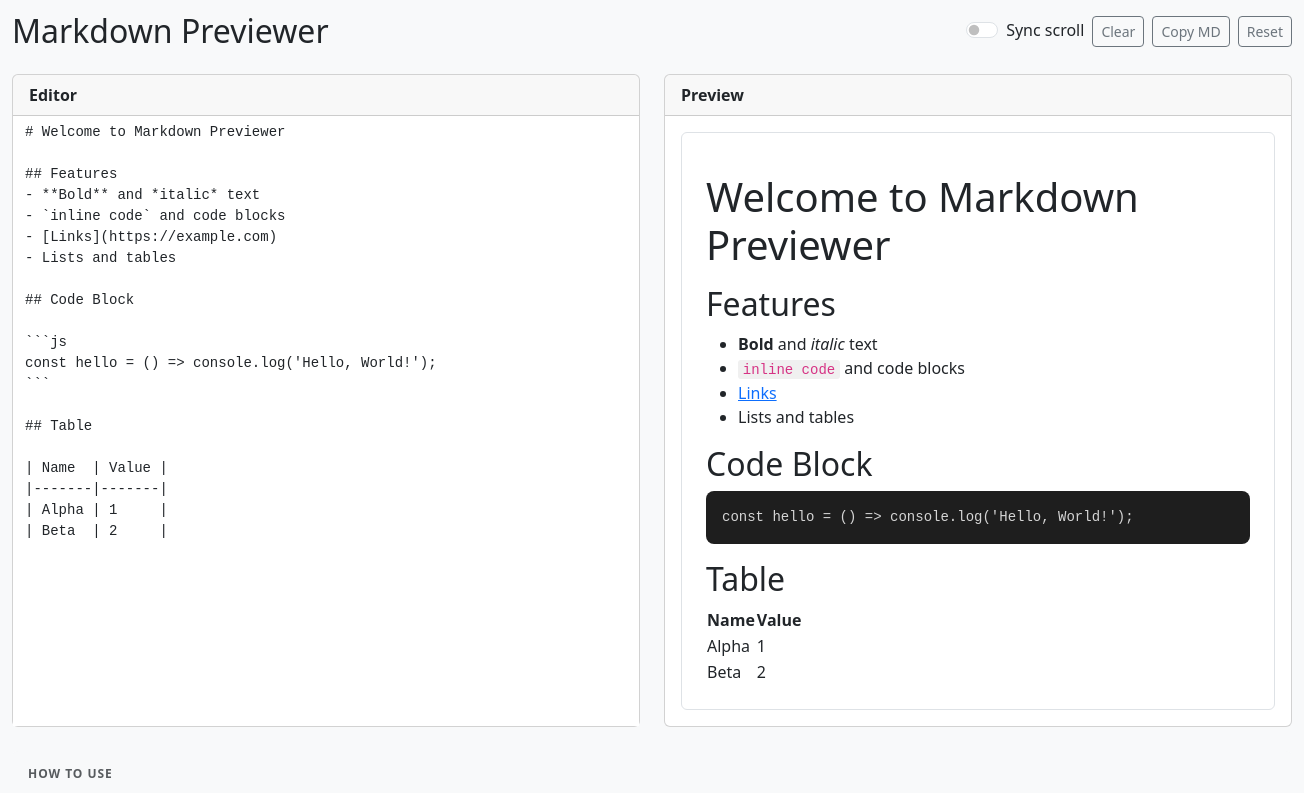
MarkdownPreviewer › updates preview when editor content changes
This screenshot has width=1304, height=793.
Replace the text in the text box named "Markdown editor" with "# Test Heading" at point(326, 421), box [13,116,639,726]
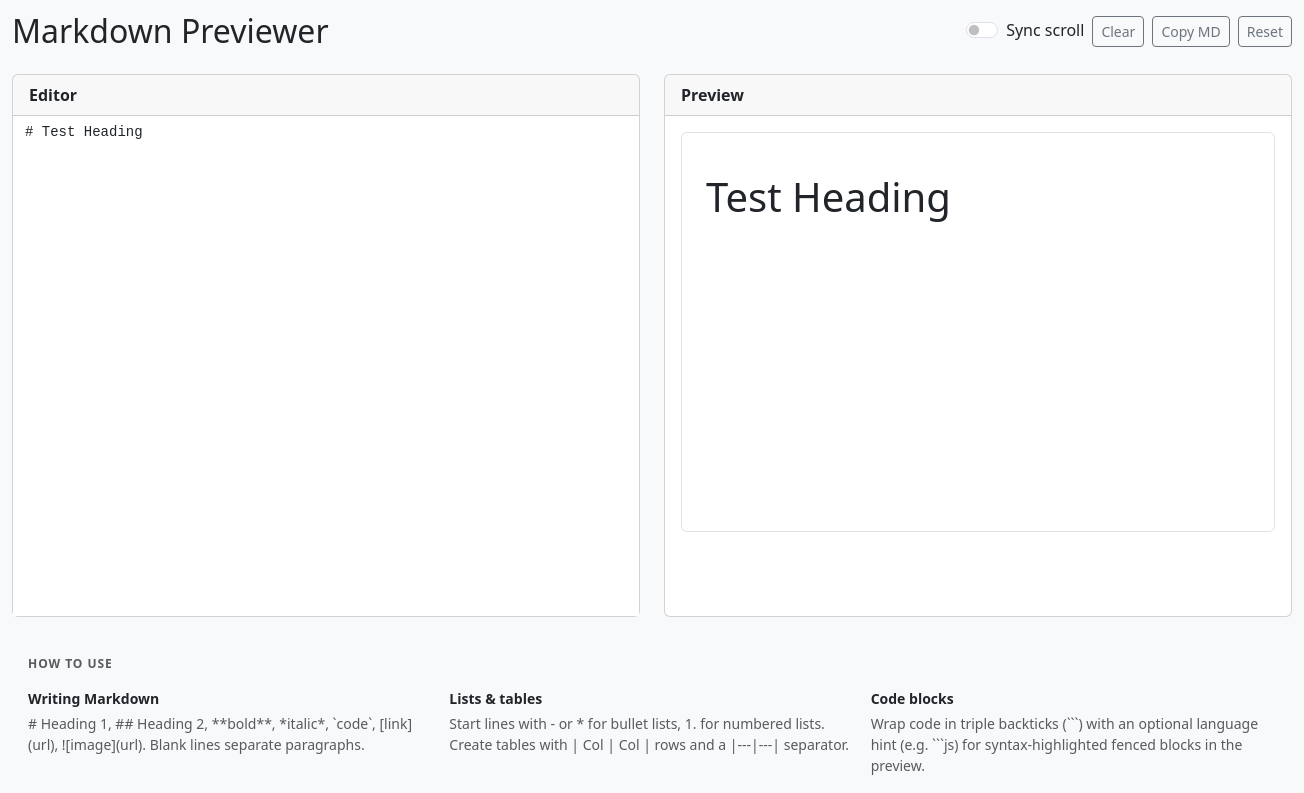
Expected: the heading "Test Heading" is shown, [706,169,951,224]
